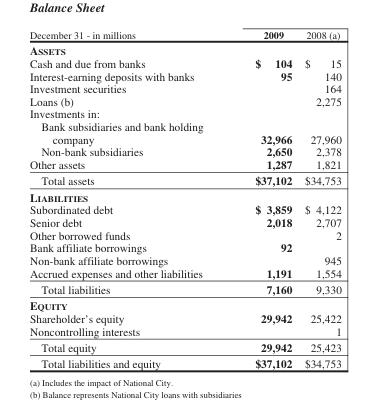table: (29, 28, 340, 369)
table column: (29, 28, 228, 369), (228, 28, 297, 369), (297, 28, 340, 369)
table column header: (29, 28, 340, 41)
table projected row header: (29, 41, 340, 56), (29, 188, 340, 203), (29, 297, 340, 311), (29, 107, 340, 119)
table row: (29, 119, 340, 145), (29, 280, 340, 297), (29, 338, 340, 355), (29, 172, 340, 188), (29, 41, 340, 56), (29, 157, 340, 172), (29, 188, 340, 203), (29, 266, 340, 280), (29, 297, 340, 311), (29, 324, 340, 338), (29, 355, 340, 369), (29, 28, 340, 41), (29, 56, 340, 69), (29, 69, 340, 82), (29, 94, 340, 107), (29, 215, 340, 228), (29, 240, 340, 253), (29, 253, 340, 266), (29, 311, 340, 324), (29, 82, 340, 94), (29, 107, 340, 119), (29, 145, 340, 157), (29, 203, 340, 215), (29, 228, 340, 240)
